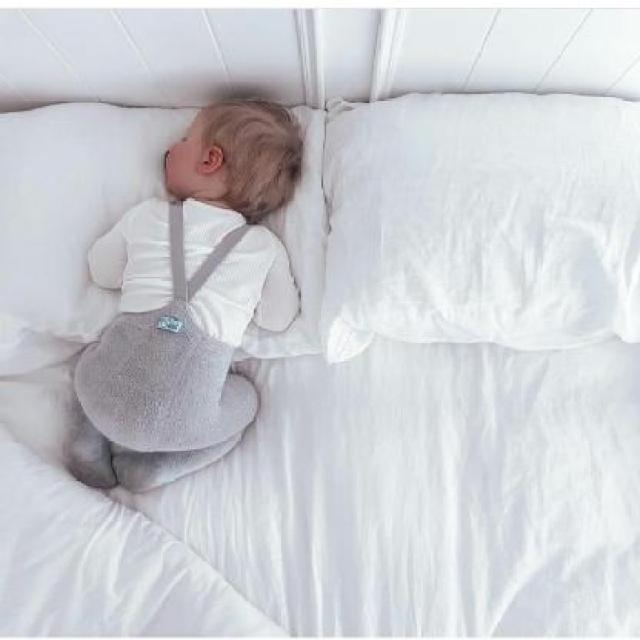baby: (55, 96, 303, 490)
